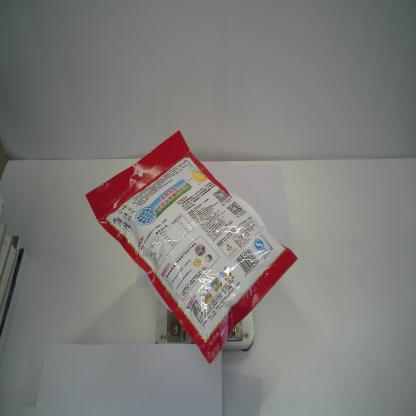Instant Drink: (81, 128, 299, 366)
